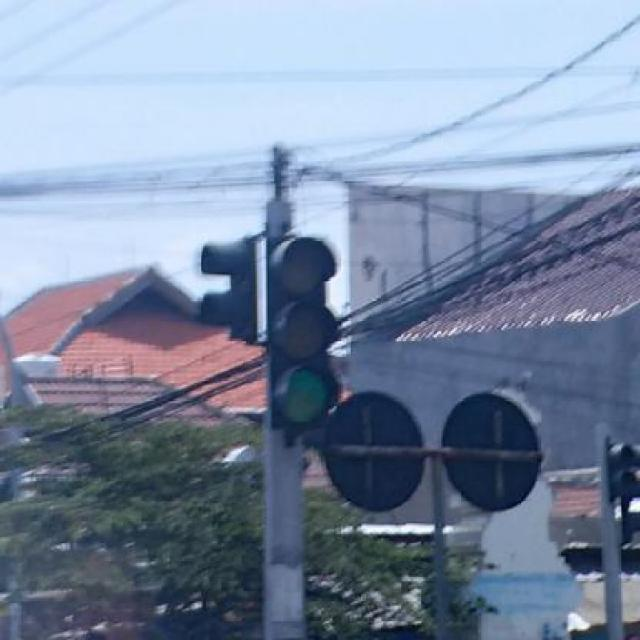traffic light: (271, 232, 337, 437)
